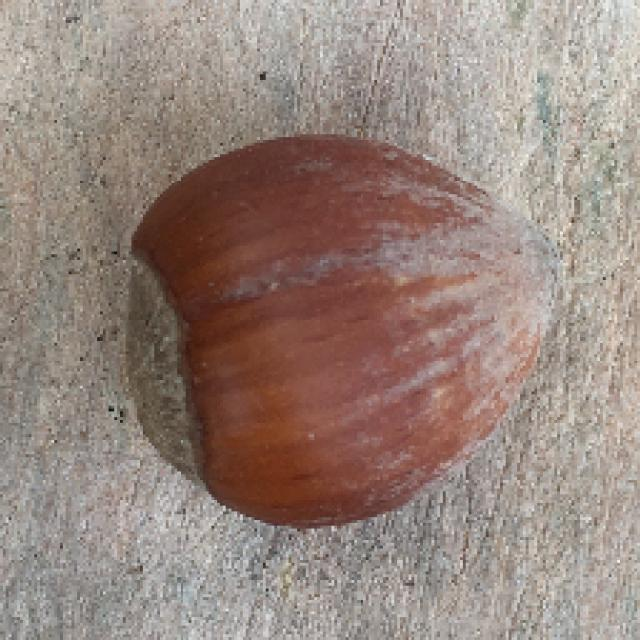QualityHazelnut: (129, 136, 562, 529)
